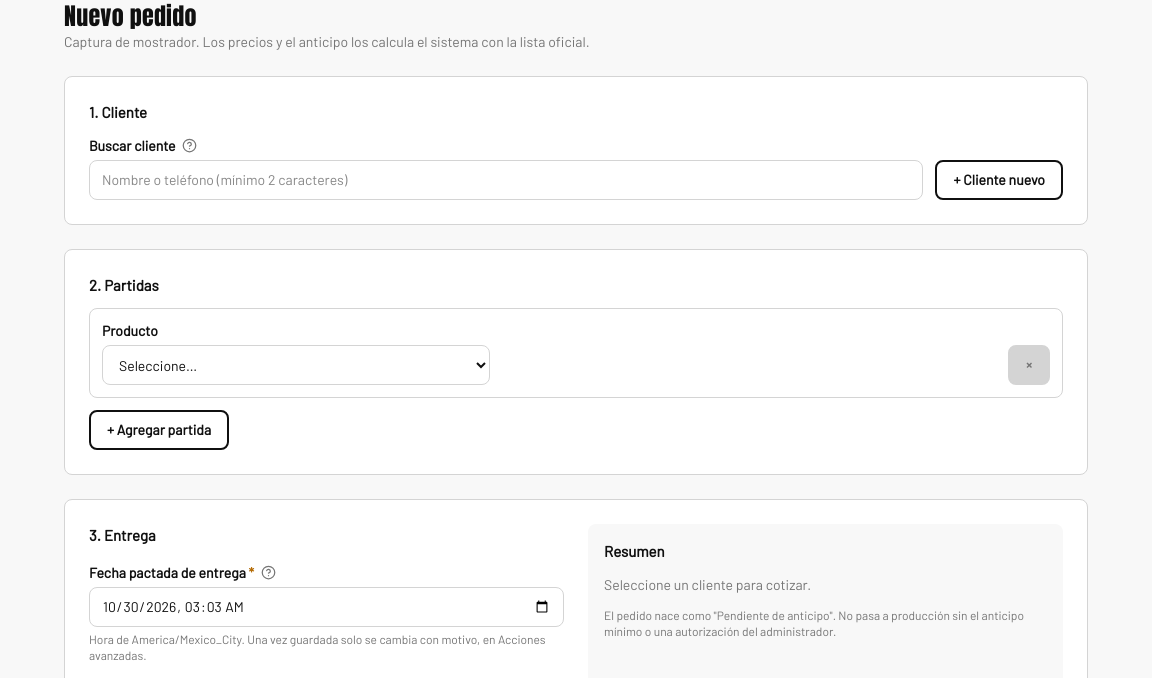
Test: producto por m²: pide cantidad, base y altura en cm y cobra por el área
Click the button "+ Cliente nuevo": (999, 180) [935,160,1063,200]
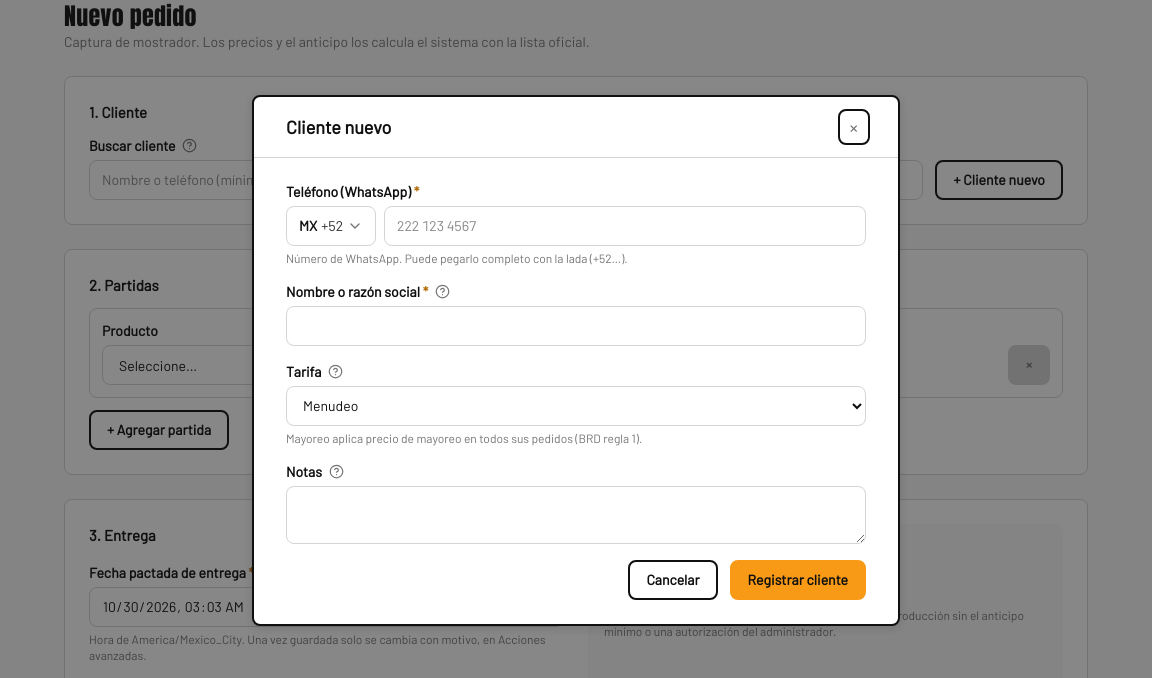
In the field labelled "Teléfono (WhatsApp) *": (625, 226) [384,206,866,246], type "6671234567"
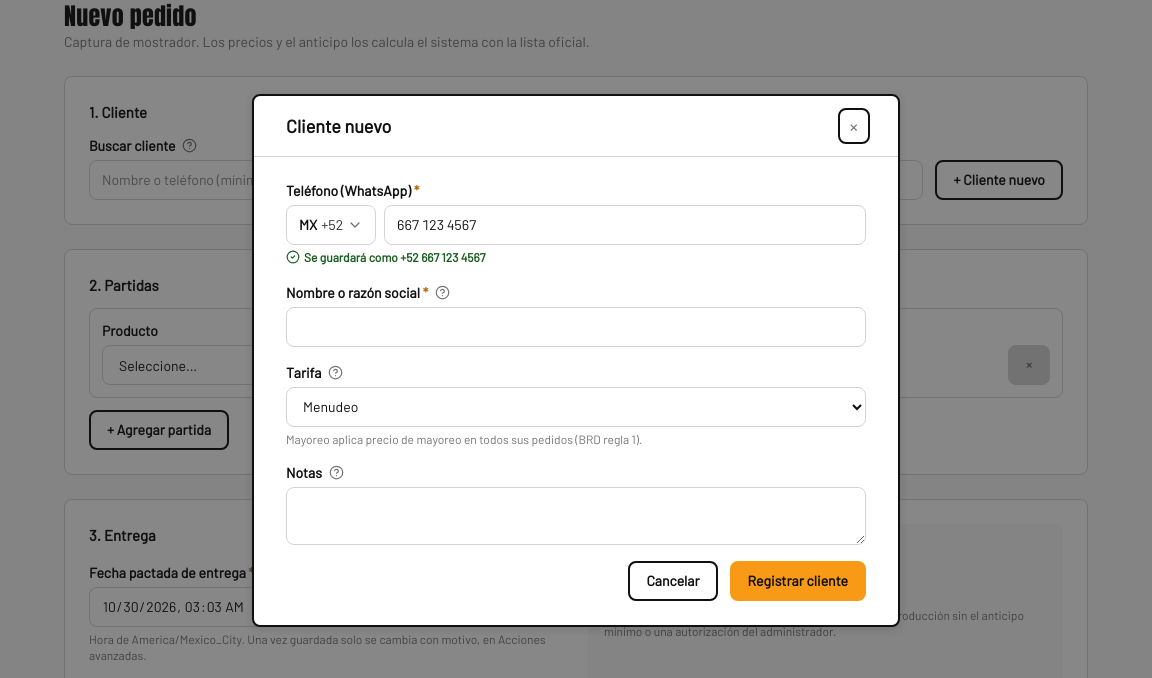
In the field labelled "Nombre o razón social *": (576, 326) [286,306,866,346], type "Ana"
Click the button "Registrar cliente": (798, 580) [730,560,866,600]
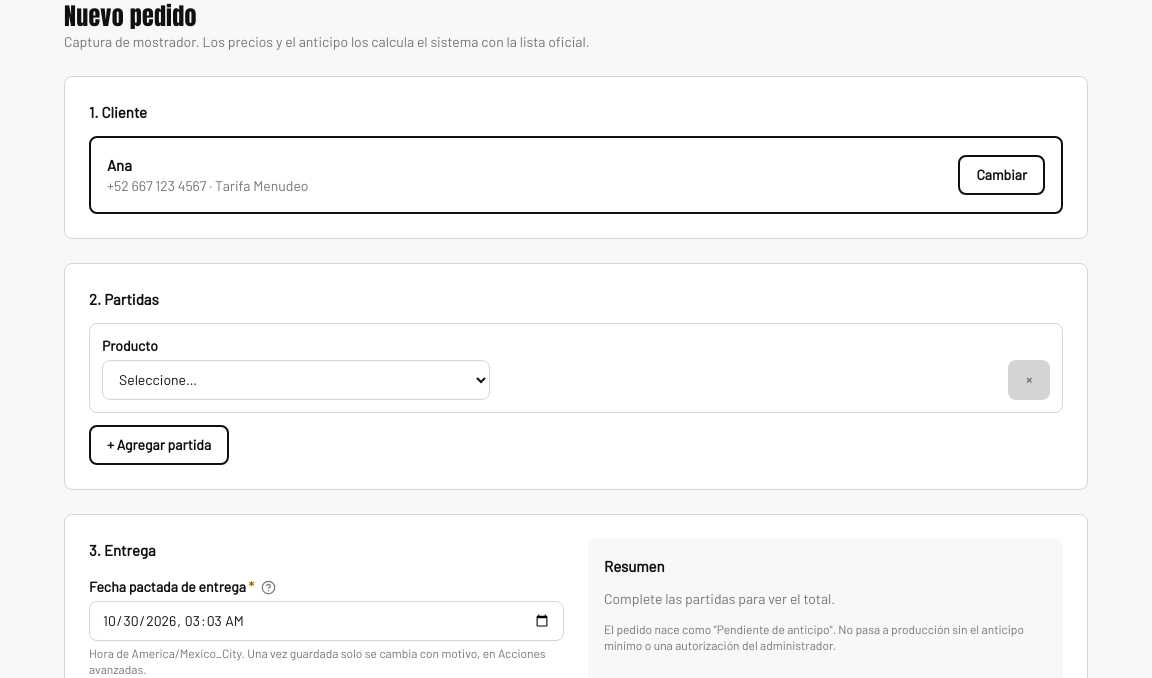
Expected: the text "Ana" is shown, [107,156,132,174]
Select "Señaletica (m²)" in the dropdown: (296, 380) [102,360,490,400]
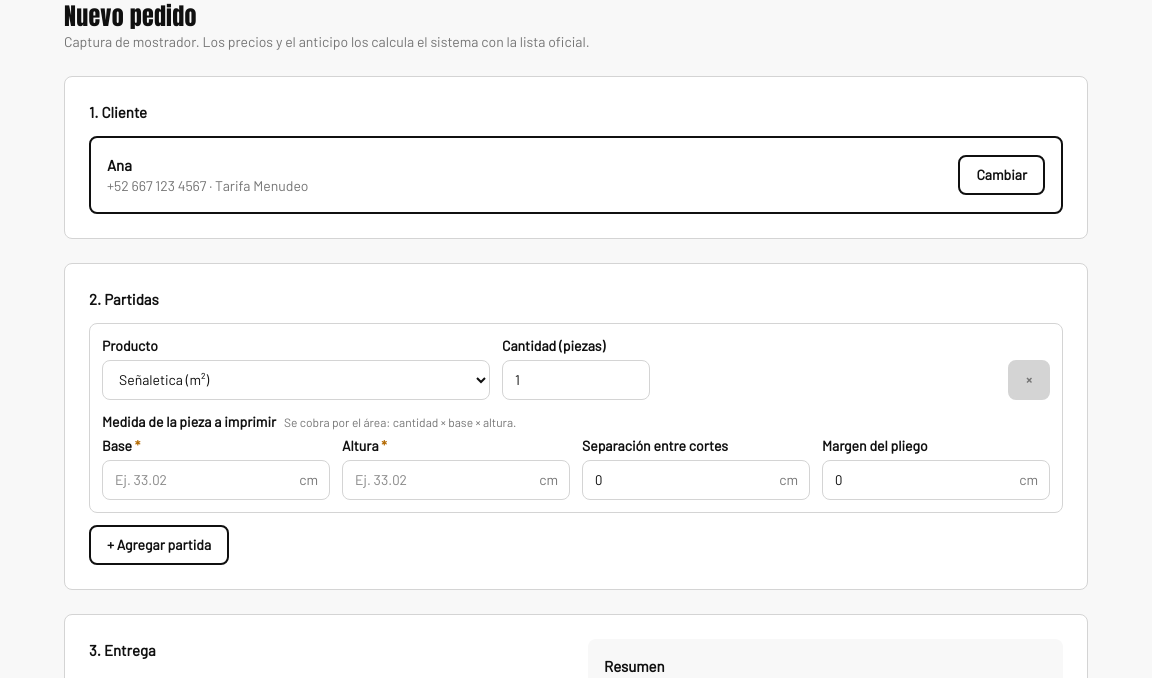
Expected: the element with test id "cut-fields" shows "Se cobra por el área", [284,414,516,428]
Replace the text in the field with test id "row-quantity" with "50": (576, 380) [502,360,650,400]
In the field with test id "row-cutW": (216, 480) [102,460,330,500], type "20"
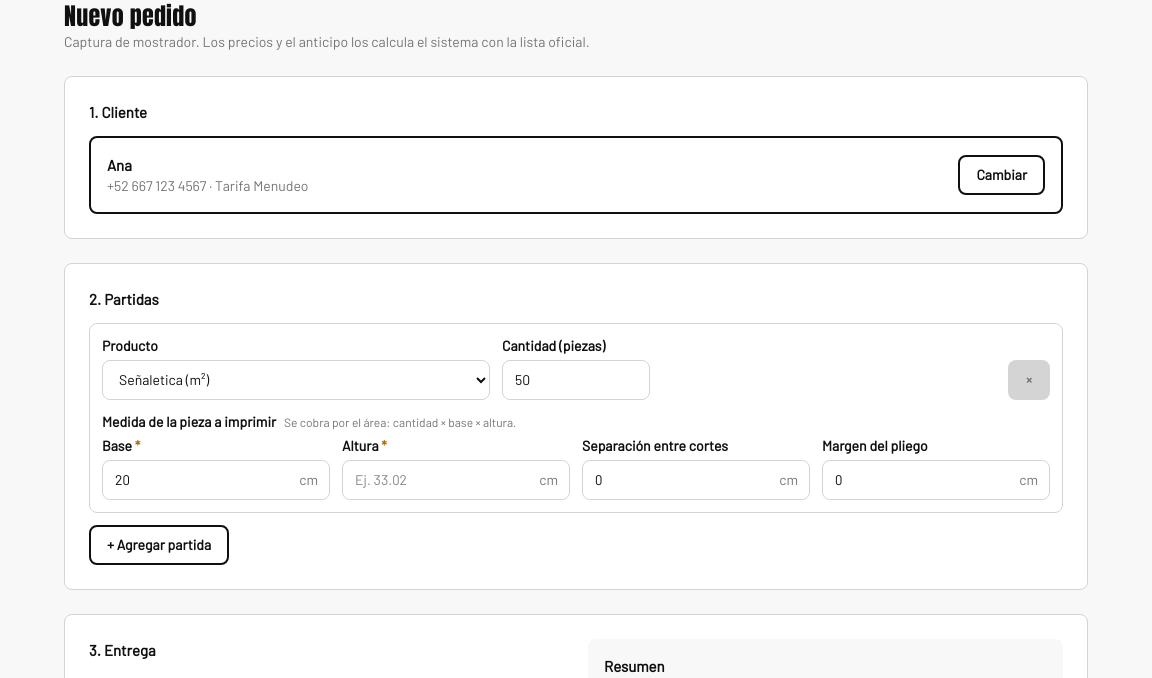
In the field with test id "row-cutH": (456, 480) [342,460,570,500], type "35"
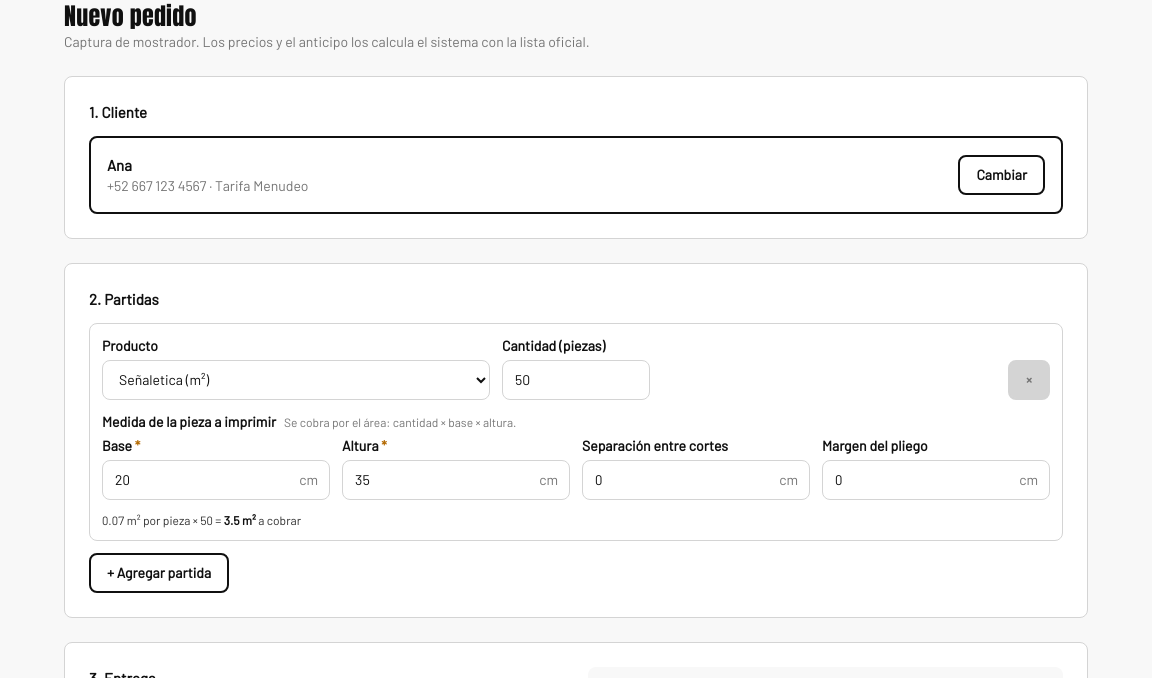
Expected: the element with test id "m2-summary" reads "0.07 m² por pieza × 50 = 3.5 m² a cobrar", [102,512,301,526]
